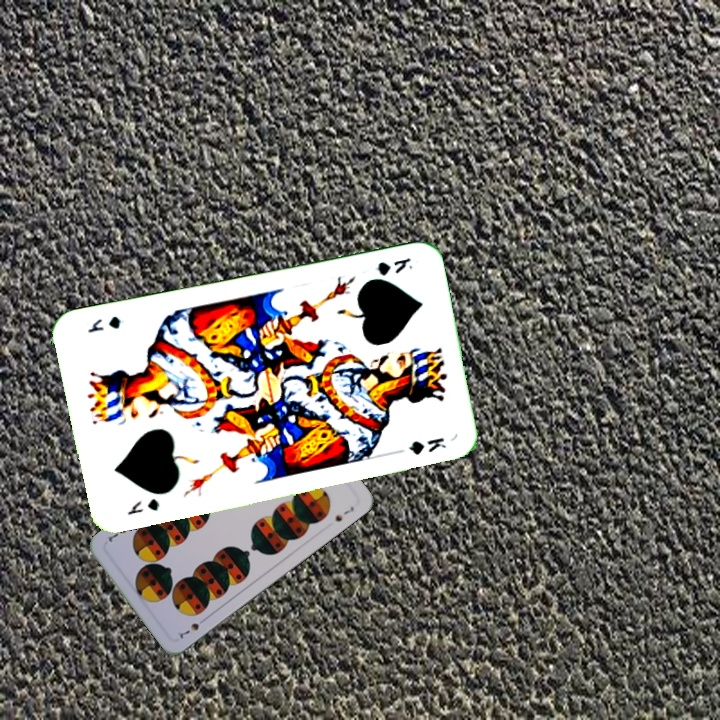GK: (373, 253, 415, 279), (123, 494, 162, 518)
S7: (175, 614, 209, 641)
